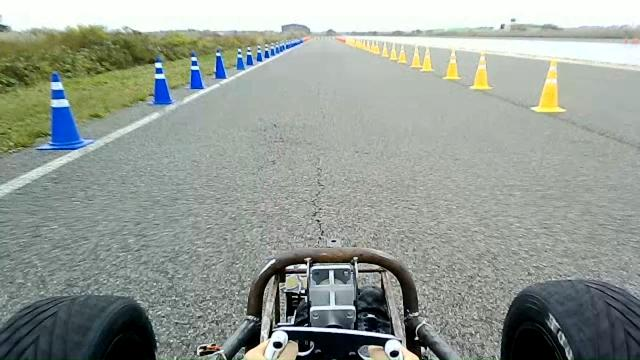blue cone: (36, 71, 94, 150), (149, 56, 175, 105), (188, 51, 204, 89), (212, 48, 228, 79), (235, 48, 246, 70), (245, 46, 254, 66), (263, 43, 271, 59), (256, 44, 263, 62)
yellow cone: (530, 58, 567, 112), (470, 51, 492, 90), (442, 48, 462, 80), (420, 47, 434, 72), (409, 44, 422, 68), (397, 44, 407, 64), (389, 42, 398, 61), (381, 42, 389, 58)
